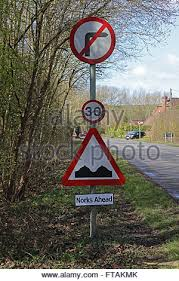No_right_turn: (67, 17, 116, 63)
Speed_limit_30km: (82, 100, 105, 123)
